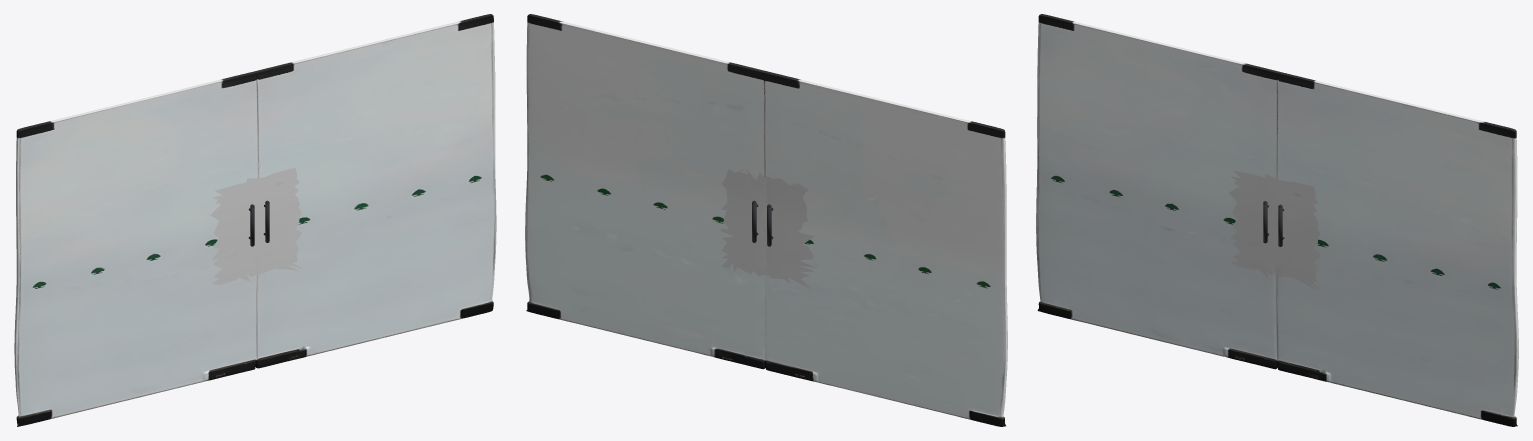
Rendered from GlassDoor.fbx.
The picture shows the model from 3 angles, left to right: view 1: azimuth 30°, elevation 25°; view 2: azimuth 150°, elevation 25°; view 3: azimuth 330°, elevation 25°; orthographic projection.
Visible parts, largest first — view 1: model; view 2: model; view 3: model.
Part boxes in pixels (x1,y1,x2,y2): model: (14,14,496,426); model: (525,14,1007,426); model: (1036,14,1518,426).
Bounding box in the file's own units: 3.2 × 1.89 × 0.1309.
Materials: 3 (1 with a texture image).
